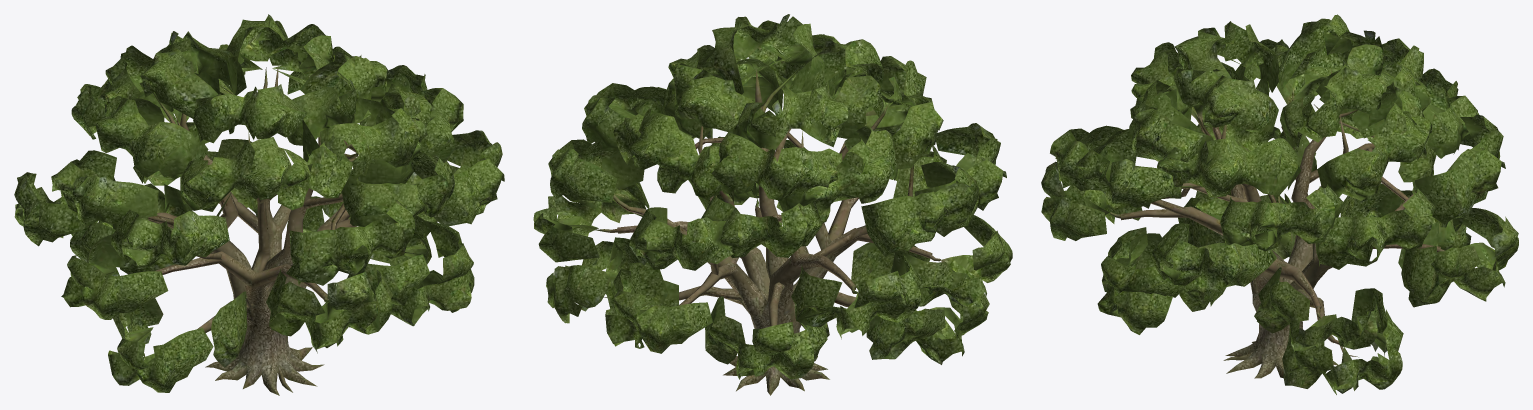
The model's file is oak_a.glb.
3 renders of one model, left to right at view 1: azimuth 30°, elevation 25°; view 2: azimuth 150°, elevation 25°; view 3: azimuth 270°, elevation 25°, orthographic. The views are drawn at different scales.
Parts seen in each view (by area): view 1: tripo_node_514350b1-8df8-4726-9279-6cf020f83e94; view 2: tripo_node_514350b1-8df8-4726-9279-6cf020f83e94; view 3: tripo_node_514350b1-8df8-4726-9279-6cf020f83e94.
Boxes of the visible parts, x1,y1,x2,y2 form: tripo_node_514350b1-8df8-4726-9279-6cf020f83e94: [14, 14, 504, 395]; tripo_node_514350b1-8df8-4726-9279-6cf020f83e94: [533, 14, 1012, 395]; tripo_node_514350b1-8df8-4726-9279-6cf020f83e94: [1041, 14, 1518, 394].
Size of the model in its own units: 0.9985 by 0.729 by 0.9995.
Materials: 1 (1 with a texture image).
